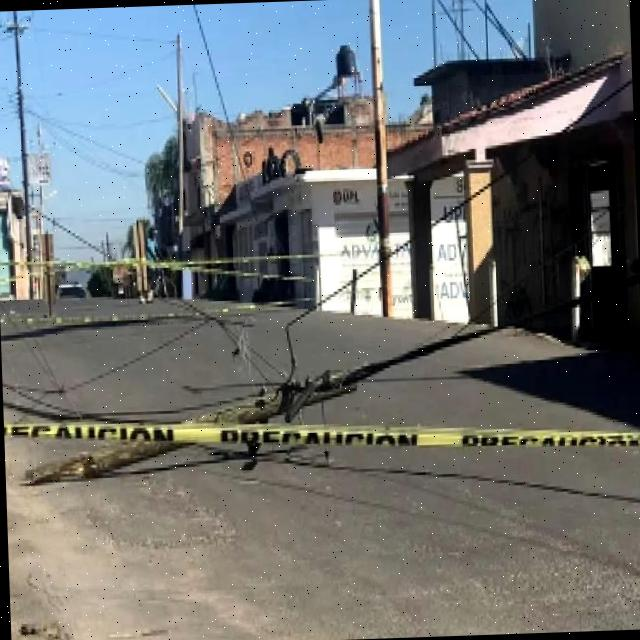Broken Pole: (28, 270, 635, 482)
